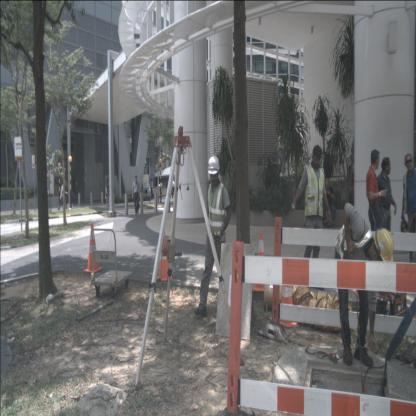cone: (279, 255, 298, 328), (252, 232, 269, 292), (84, 223, 103, 272), (157, 229, 172, 281)
